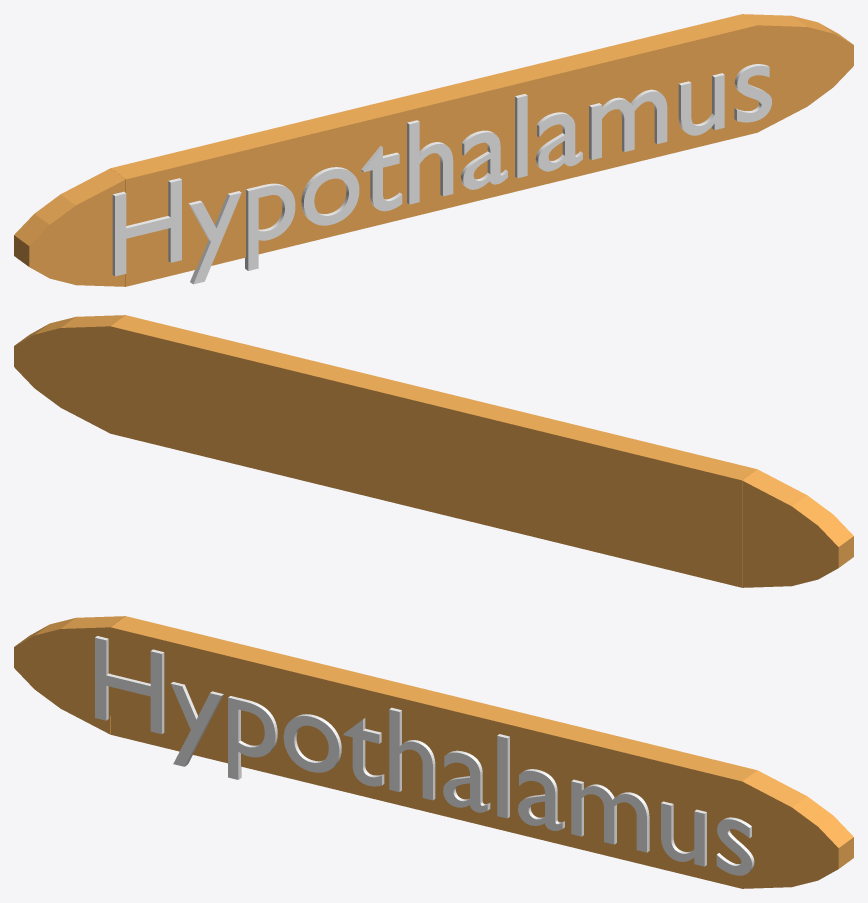
Rendered from txtHypothalamus.fbx.
The picture shows the model from 3 angles, top to bottom: view 1: azimuth 30°, elevation 25°; view 2: azimuth 150°, elevation 25°; view 3: azimuth 330°, elevation 25°; orthographic projection.
Parts seen in each view (by area): view 1: TagContainer.093, Text.095; view 2: TagContainer.093; view 3: TagContainer.093, Text.095.
Part boxes in pixels (x1,y1,x2,y2): TagContainer.093: (14, 14, 853, 286); Text.095: (112, 64, 771, 284); TagContainer.093: (14, 315, 853, 587); TagContainer.093: (14, 616, 853, 888); Text.095: (95, 636, 754, 875).
Bounding box in the file's own units: 332 × 45.81 × 12.37.
